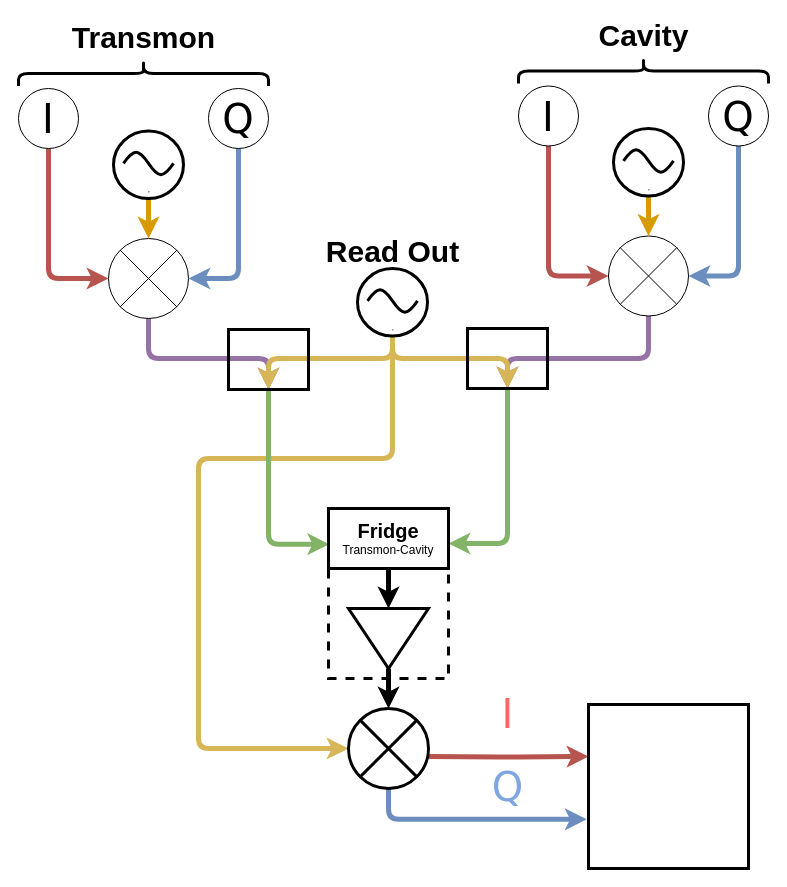
The diagram is 787 pixels wide and 887 high, and some of its shapes have lost their labels. Each missing label, with the box of its shape:
Computer: (586, 702, 750, 870)
HEMT: (346, 606, 430, 670)
